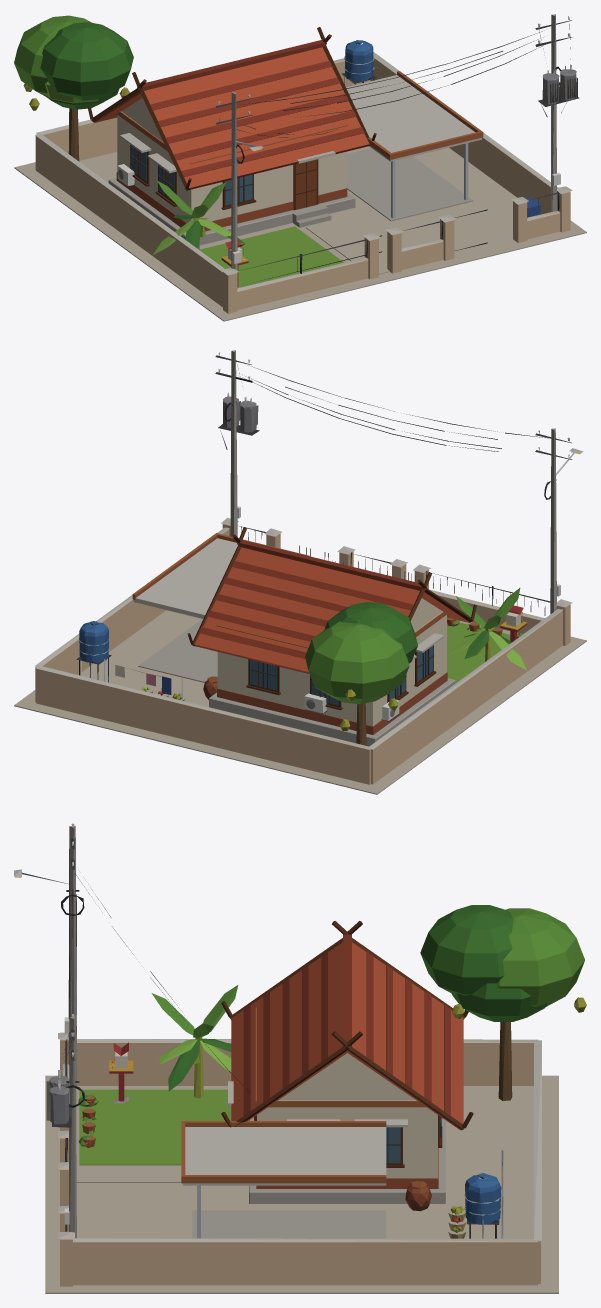
File: home_1.glb
3 renders of one model, top to bottom at view 1: azimuth 30°, elevation 25°; view 2: azimuth 150°, elevation 25°; view 3: azimuth 270°, elevation 25°, orthographic. The views are drawn at different scales.
Visible parts, largest first — view 1: body, windows; view 2: body, windows; view 3: body.
Part boxes in pixels (x1,y1,x2,y2): body: (14,14,586,321); windows: (131,145,262,205); body: (14,350,586,794); windows: (250,451,581,705); body: (14,823,586,1293).
Size of the model in its own units: 16.25 by 9.29 by 17.74.
